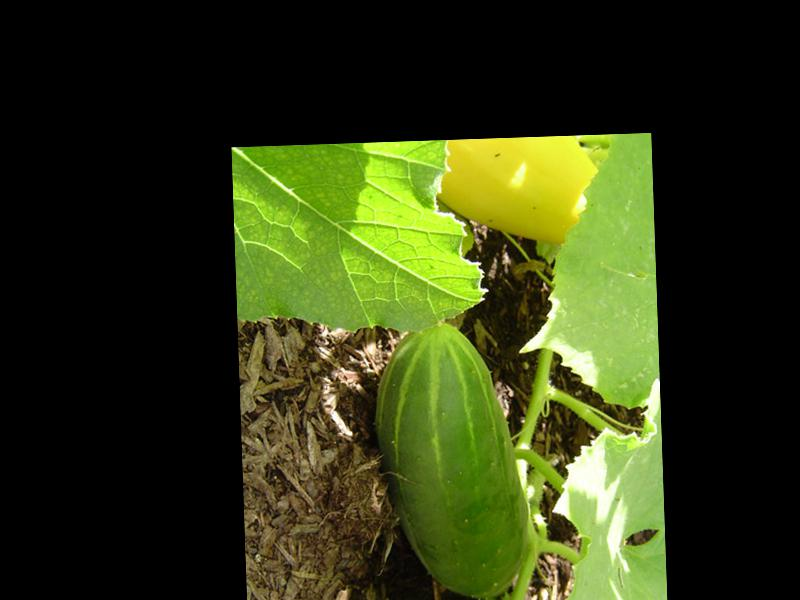Cucumber: (370, 319, 532, 600)
